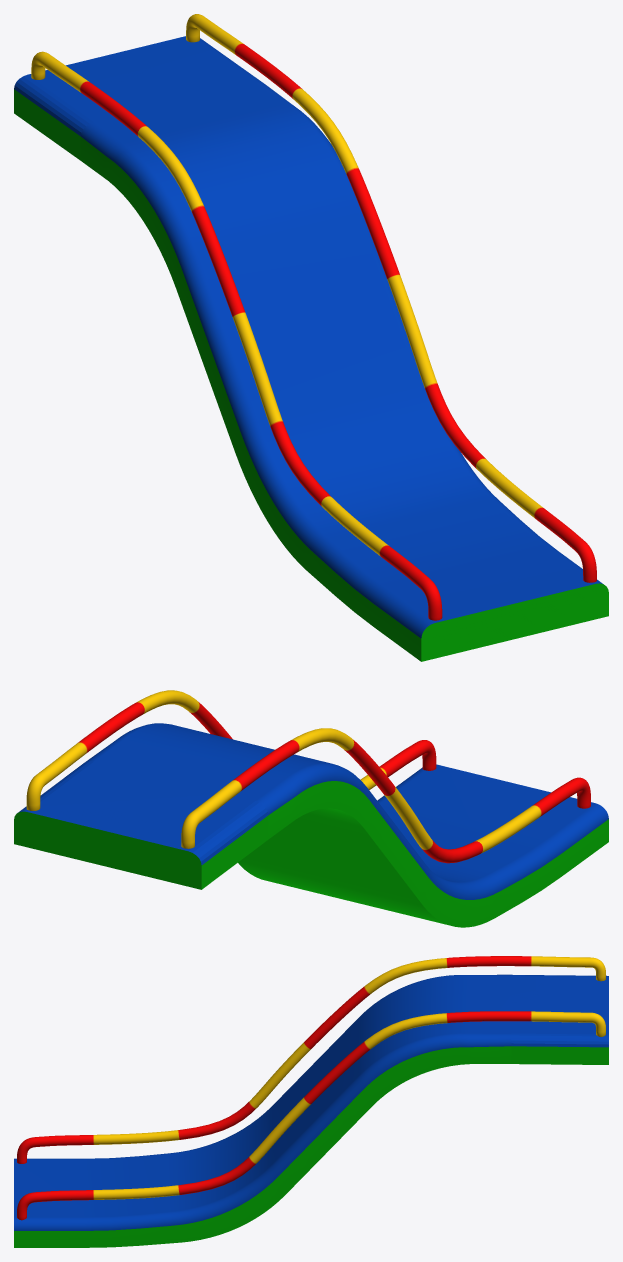
3 renders of one model, top to bottom at view 1: azimuth 30°, elevation 25°; view 2: azimuth 150°, elevation 25°; view 3: azimuth 270°, elevation 25°, orthographic. The views are drawn at different scales.
Visible parts, largest first — view 1: plank9, pipe16, piper15; view 2: plank9, pipe16, piper15; view 3: plank9, piper15, pipe16.
Part boxes in pixels (<box>): plank9: <box>14,36,608,661</box>; pipe16: <box>31,51,442,620</box>; piper15: <box>186,14,596,582</box>; plank9: <box>14,723,608,927</box>; pipe16: <box>181,728,590,863</box>; piper15: <box>26,690,436,810</box>; plank9: <box>14,974,608,1247</box>; piper15: <box>17,1011,605,1220</box>; pipe16: <box>17,956,605,1163</box>.
Size of the model in its own units: 500 by 807 by 1880.
